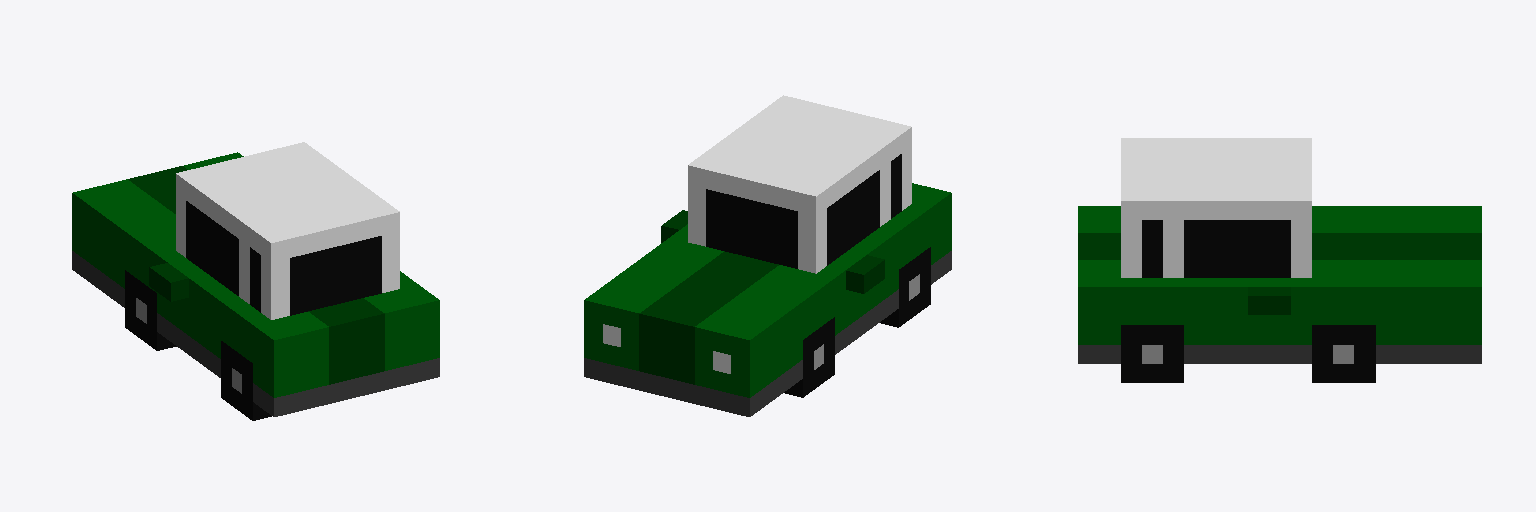
3 renders of one model, left to right at view 1: azimuth 30°, elevation 25°; view 2: azimuth 150°, elevation 25°; view 3: azimuth 270°, elevation 25°, orthographic.
Parts seen in each view (by area): view 1: car_3; view 2: car_3; view 3: car_3.
Boxes of the visible parts, x1,y1,x2,y2 form: car_3: [72, 142, 439, 420]; car_3: [584, 95, 951, 416]; car_3: [1078, 138, 1481, 382].
Bounding box in the file's own units: 11 × 9 × 19.
Materials: 1 (1 with a texture image).